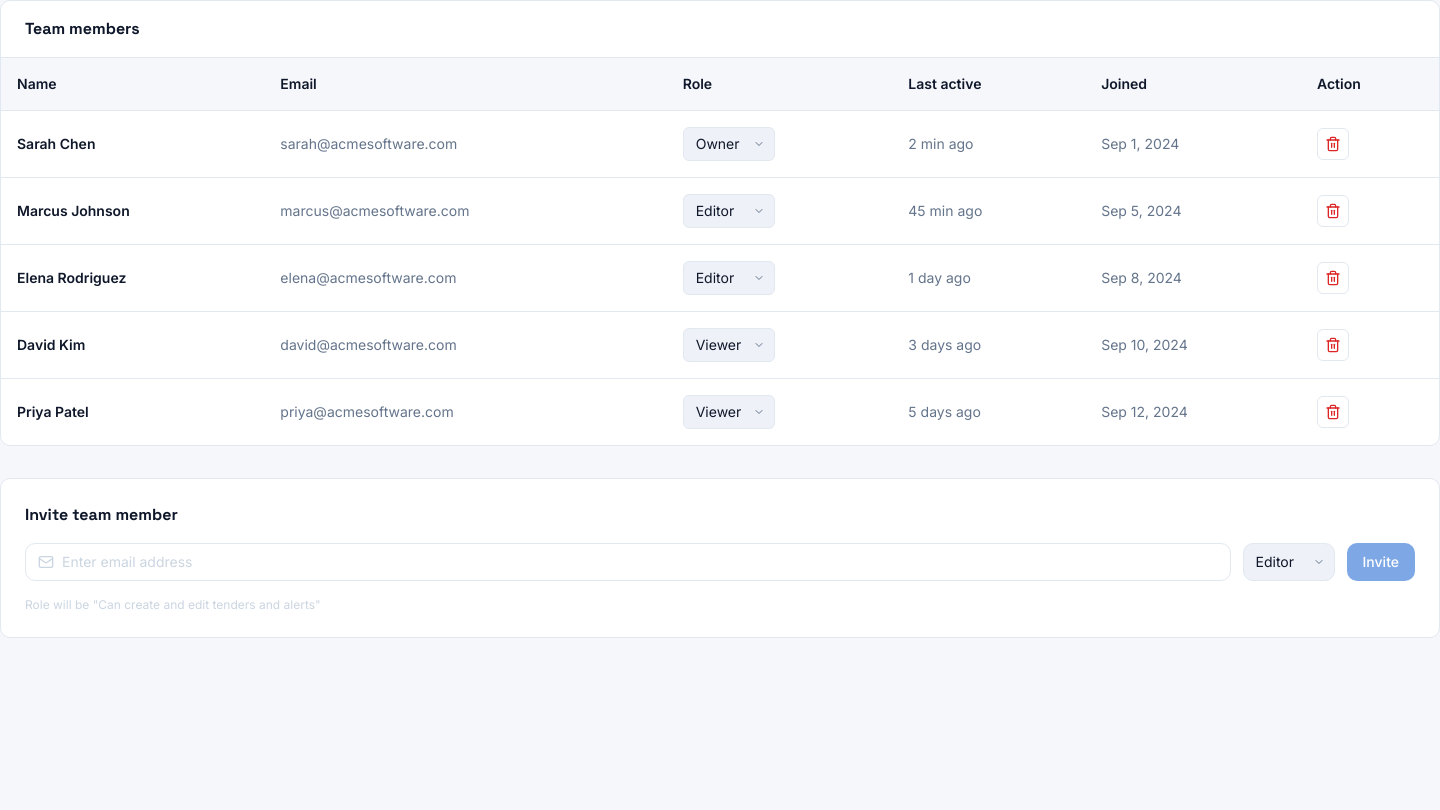
TeamSection › invite form adds a new row with entered email
Type email and submit
In the field with placeholder "Enter email address": [640, 562] box [62, 552, 1218, 572], type "newuser@example.com"
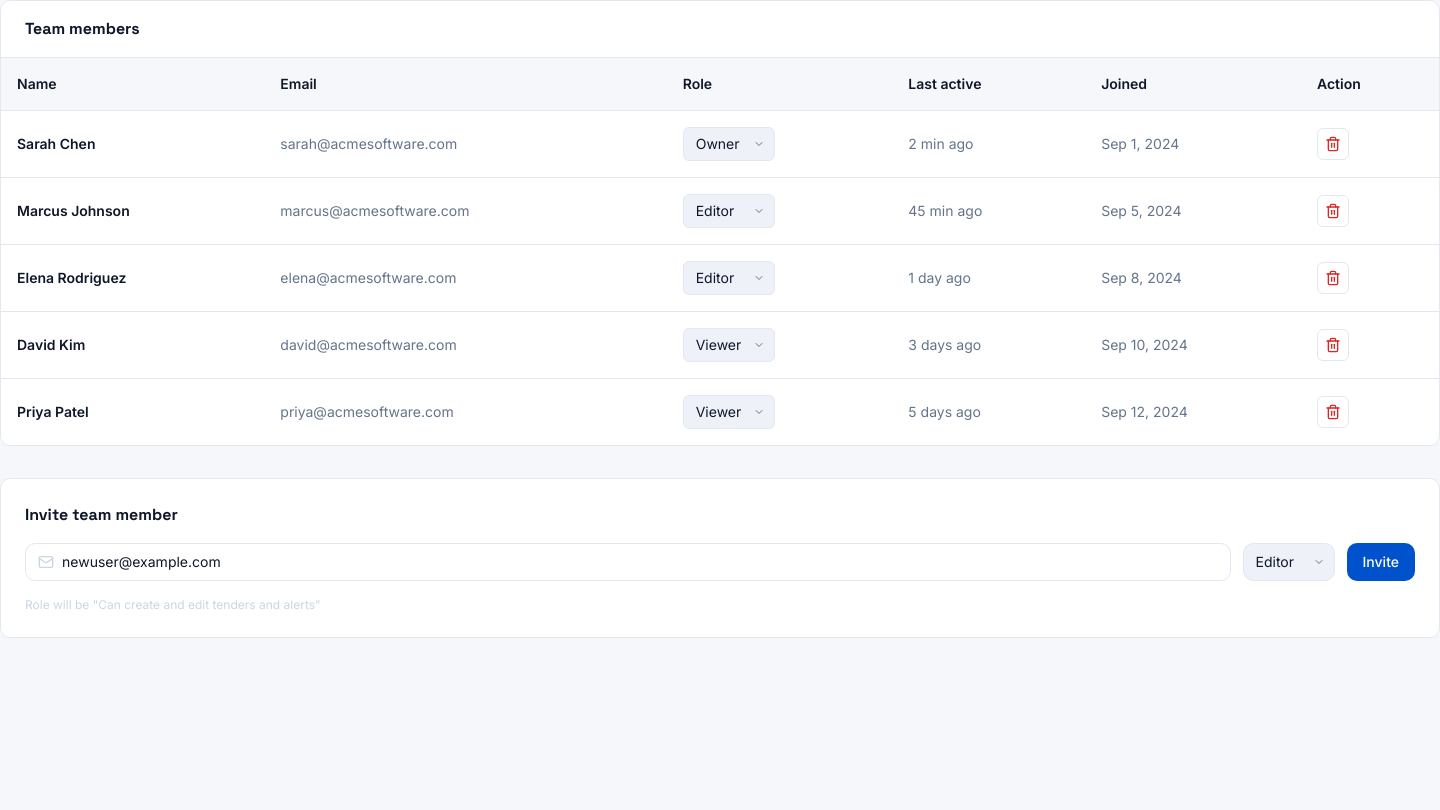
Click the button "Invite": [1381, 562] box [1346, 543, 1415, 581]
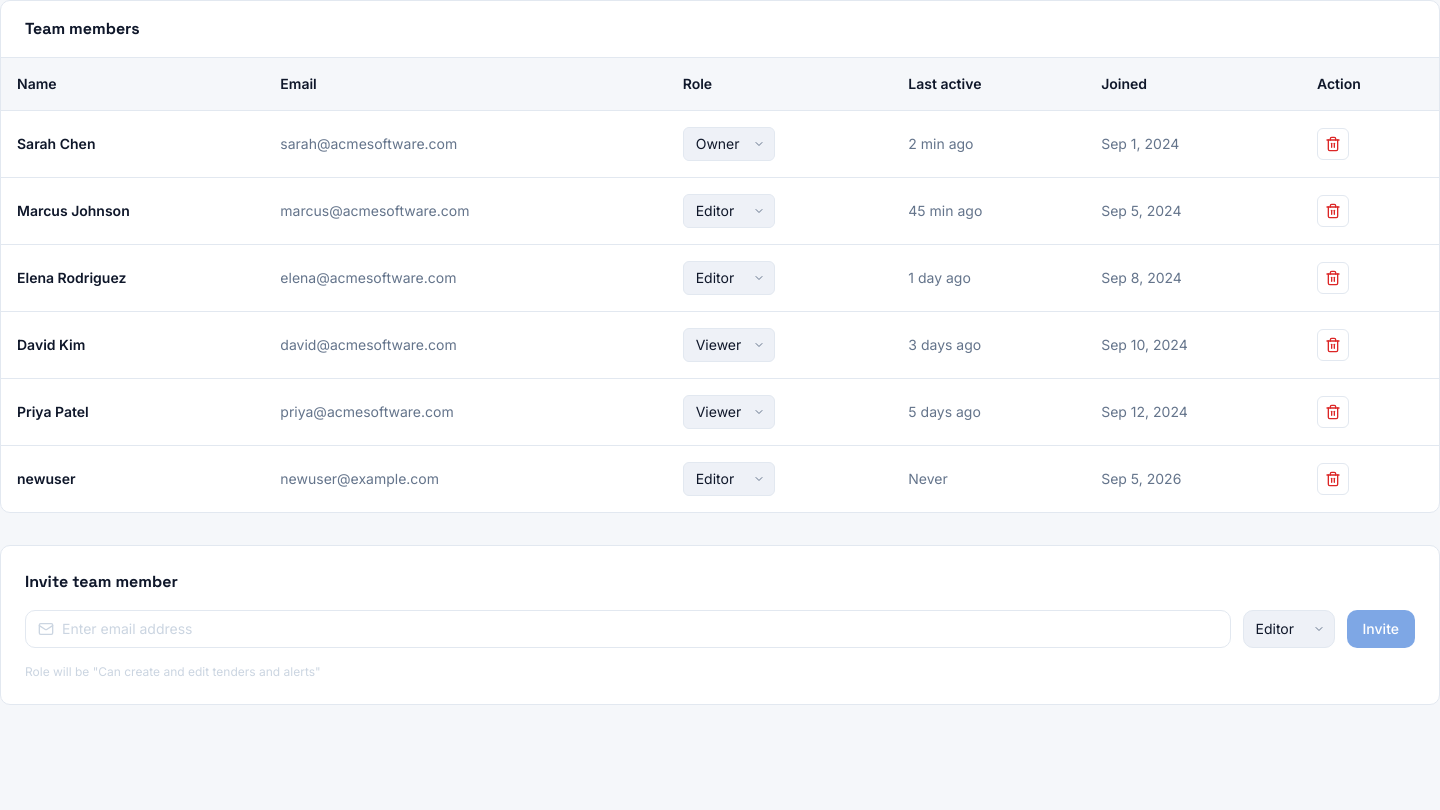
Expected: the text "newuser@example.com" is shown, [264, 446, 667, 512]
Expected: the field with placeholder "Enter email address" is empty, [62, 619, 1218, 639]
